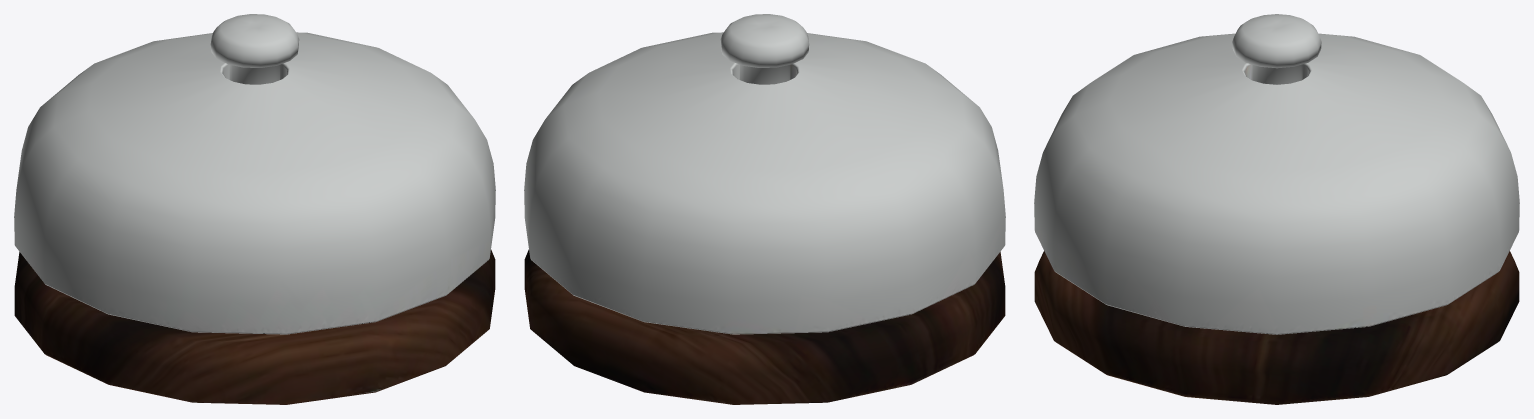
File: desk_bell.glb
The picture shows the model from 3 angles, left to right: view 1: azimuth 30°, elevation 25°; view 2: azimuth 150°, elevation 25°; view 3: azimuth 270°, elevation 25°; orthographic projection.
Visible parts, largest first — view 1: Object_2, Object_3; view 2: Object_2, Object_3; view 3: Object_2, Object_3.
Boxes of the visible parts, bbox=[...] form: Object_2: bbox=[14, 32, 495, 404]; Object_3: bbox=[210, 14, 299, 84]; Object_2: bbox=[524, 32, 1005, 404]; Object_3: bbox=[720, 14, 809, 84]; Object_2: bbox=[1034, 33, 1519, 404]; Object_3: bbox=[1232, 14, 1321, 84].
Bounding box in the file's own units: 1.85 × 1.17 × 1.85.
2 materials, 2 textured.
